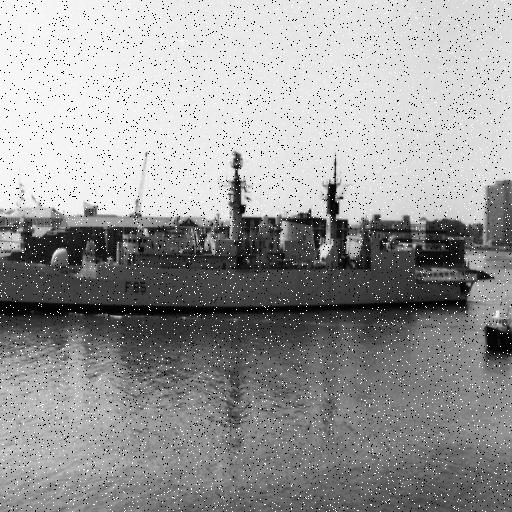Fragata: (1, 131, 476, 328)
